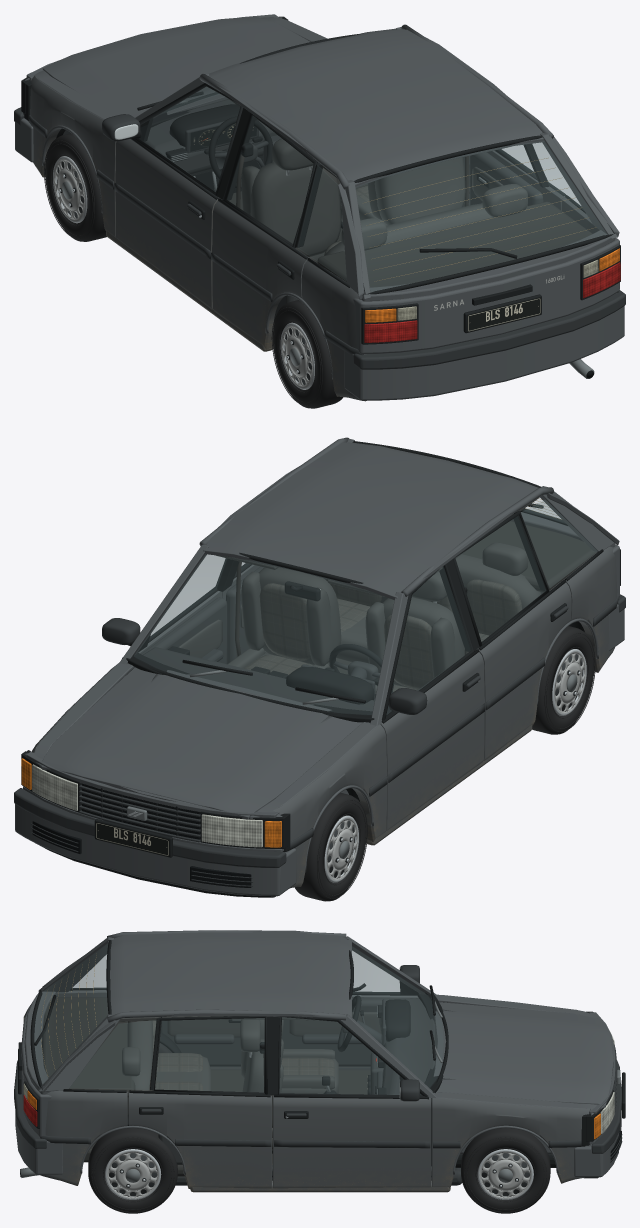
The model's file is car.glb.
3 views of the same model, one above another, from view 1: azimuth 30°, elevation 25°; view 2: azimuth 150°, elevation 25°; view 3: azimuth 270°, elevation 25° (orthographic). The views are drawn at different scales.
Parts seen in each view (by area): view 1: Roof, HatchGlass, Hood, ParcelShelf, DriverDoor, DriverDoorTrim, RearBumper, HatchLowerPanel, RearDoor_L, DriverSeat, WindowTrim, RearDoorGlass_L (+28 smaller); view 2: Roof, Hood, Windshield, DriverDoor, DriverDoorTrim, PassengerSeat, FrontGrille, RearDoor_L, RearSeating, FrontBumper, DriverSeat, RearDoorGlass_L (+26 smaller); view 3: Roof, Hood, PassengerDoor, PassengerDoorTrim, RearDoor_R, RearDoorGlass_R, Windshield, FrontFender_R, Wheel_FR, Wheel_RR, HatchGlass, ParcelShelf (+32 smaller).
Boxes of the visible parts, x1,y1,x2,y2 form: Roof: (208,28,544,187); HatchGlass: (356,141,607,291); Hood: (42,16,310,117); ParcelShelf: (317,201,592,287); DriverDoor: (115,139,221,309); DriverDoorTrim: (102,83,243,259); RearBumper: (344,306,624,400); HatchLowerPanel: (353,238,619,353); RearDoor_L: (212,201,311,349); DriverSeat: (241,138,341,262); WindowTrim: (163,33,615,295); RearDoorGlass_L: (227,115,313,243); Roof: (203,442,538,599); Hood: (41,667,362,819); Windshield: (133,554,393,714); DriverDoor: (380,652,484,830); DriverDoorTrim: (381,564,485,782); PassengerSeat: (227,567,341,674); FrontGrille: (23,750,290,887); RearDoor_L: (475,582,571,760); RearSeating: (326,542,541,663); FrontBumper: (15,804,296,896); DriverSeat: (365,571,464,693); RearDoorGlass_L: (456,516,545,641); Roof: (108,930,351,1017); Hood: (433,1002,613,1107); PassengerDoor: (273,1095,431,1188); PassengerDoorTrim: (274,1016,430,1148); RearDoor_R: (128,1092,271,1188); RearDoorGlass_R: (155,1018,264,1092); Windshield: (352,947,443,1087); FrontFender_R: (432,1098,590,1188); Wheel_FR: (461,1128,550,1213); Wheel_RR: (88,1128,177,1213); HatchGlass: (34,944,107,1084); ParcelShelf: (42,997,135,1097).
Size of the model in its own units: 2.03 by 1.45 by 4.14.
Materials: 38 (19 with a texture image).
